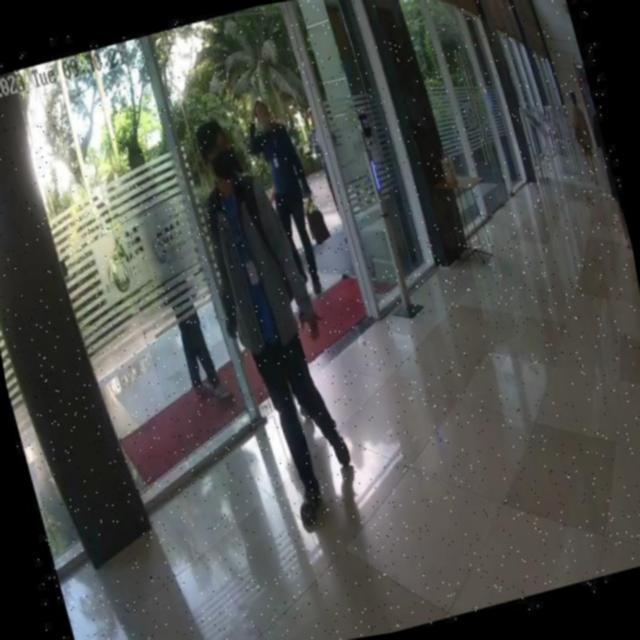person: (183, 99, 370, 540), (243, 90, 332, 302)
